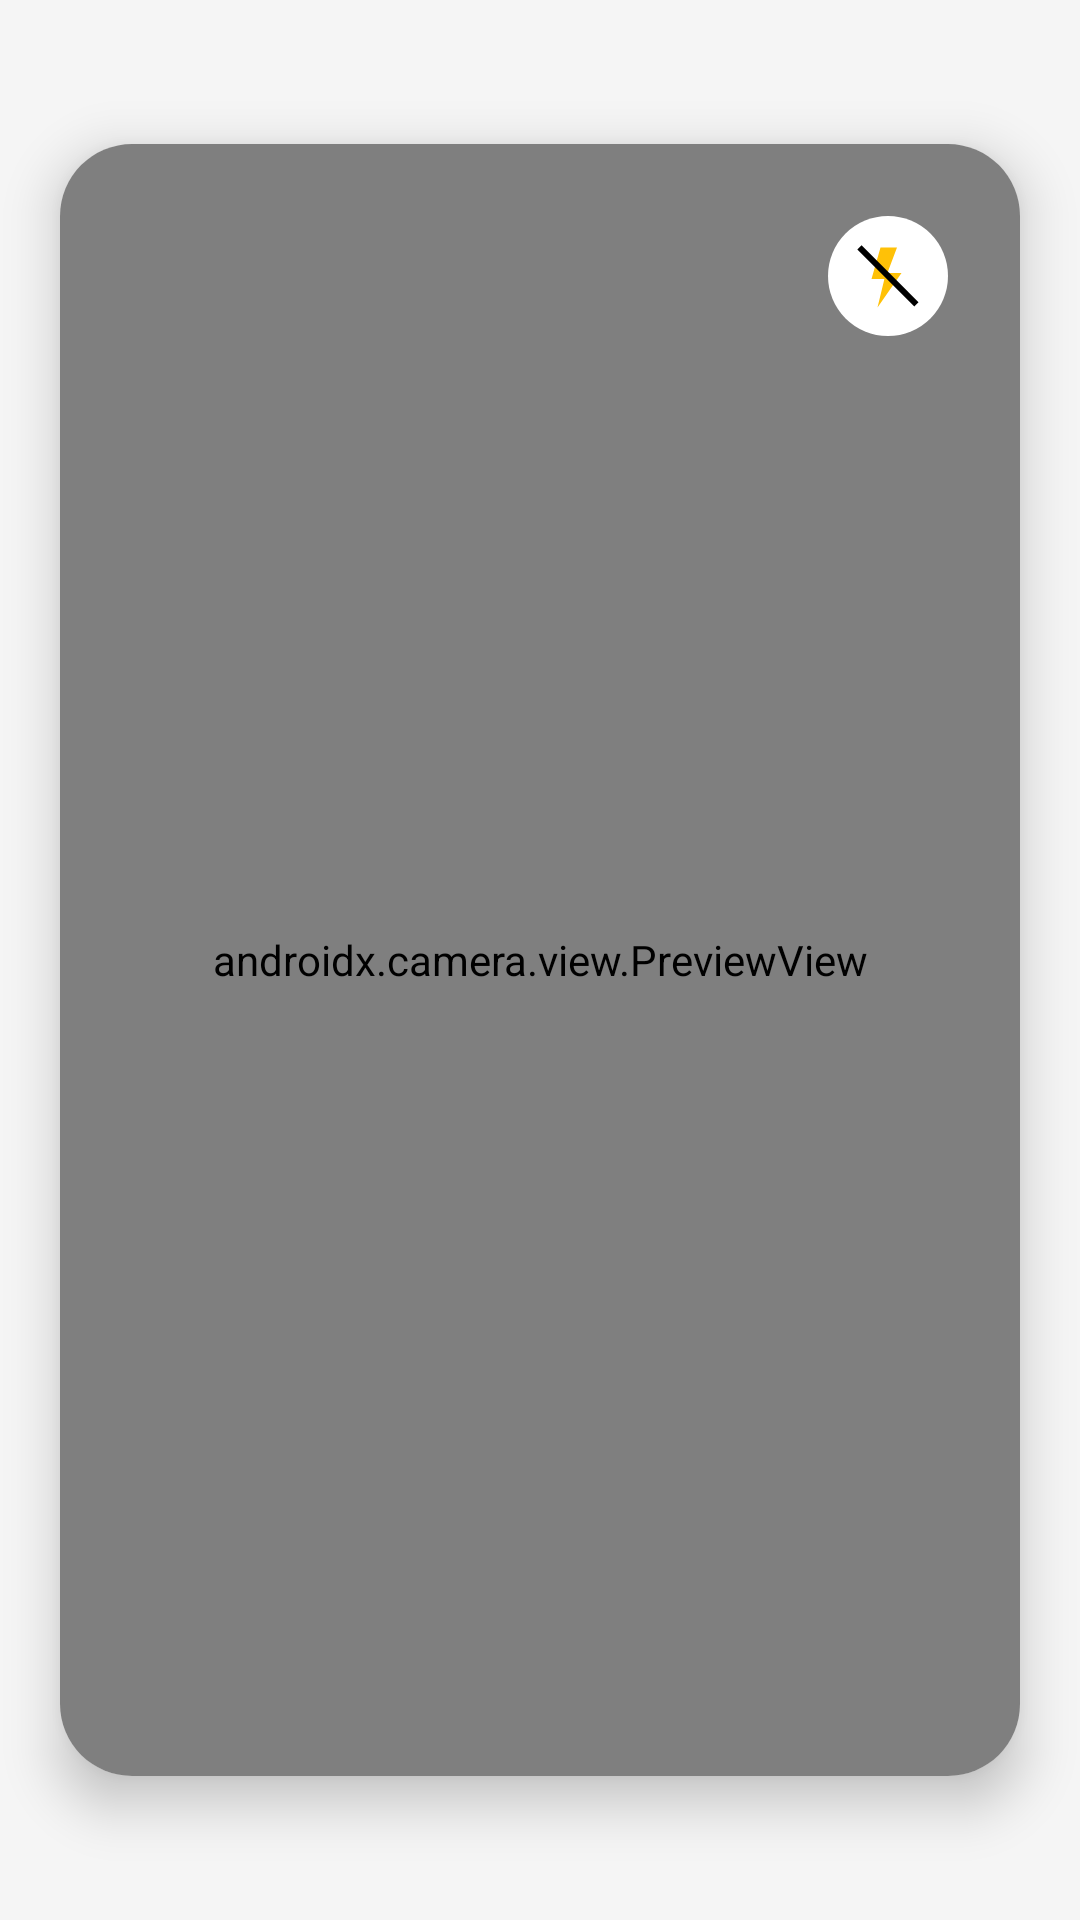

Icon bounding boxes for this 1080px×1920px phone screenshot, format (x1, y1, x2, y2):
Tombol lampu kilat: (828, 216, 948, 336)
